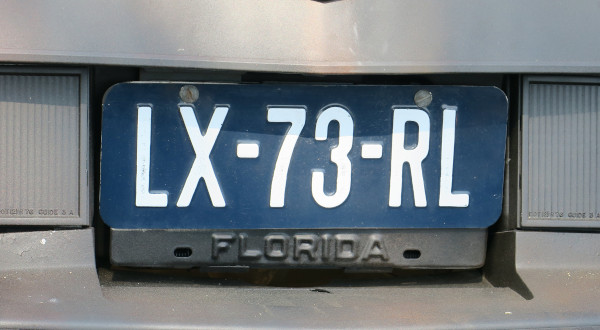license_plate: (99, 79, 507, 231)
